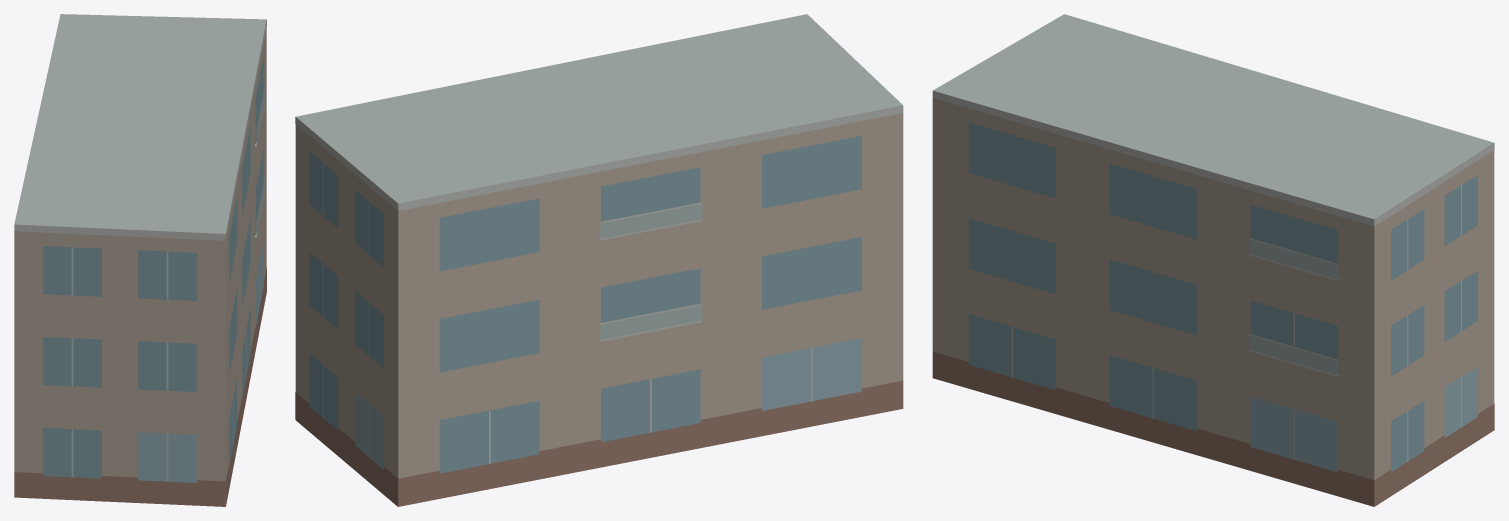
Rendered from survey-upis-32878930.glb.
The picture shows the model from 3 angles, left to right: view 1: azimuth 30°, elevation 25°; view 2: azimuth 150°, elevation 25°; view 3: azimuth 270°, elevation 25°; orthographic projection. The views are drawn at different scales.
Parts seen in each view (by area): view 1: survey-upis-32878930.tmp; view 2: survey-upis-32878930.tmp; view 3: survey-upis-32878930.tmp.
Boxes of the visible parts, x1=… form: survey-upis-32878930.tmp: x1=14, y1=14, x2=266, y2=506; survey-upis-32878930.tmp: x1=295, y1=14, x2=903, y2=506; survey-upis-32878930.tmp: x1=932, y1=14, x2=1494, y2=506.
Bounding box in the file's own units: 15.02 × 9.8 × 17.37.
